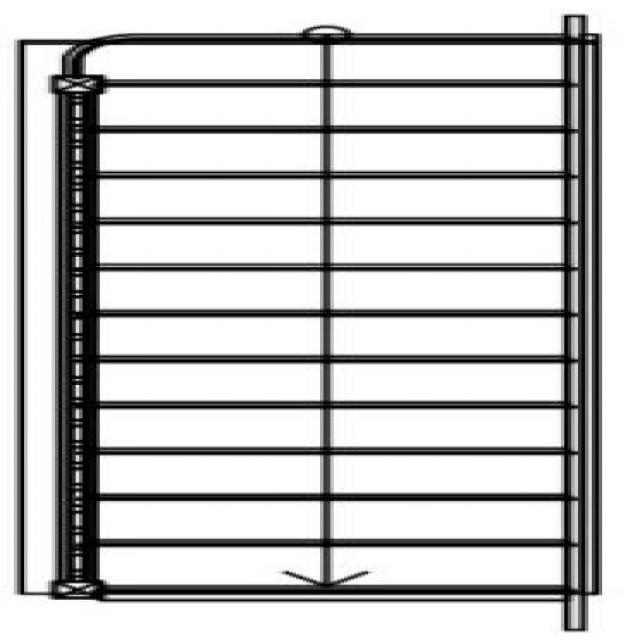stair: (14, 15, 602, 630)
